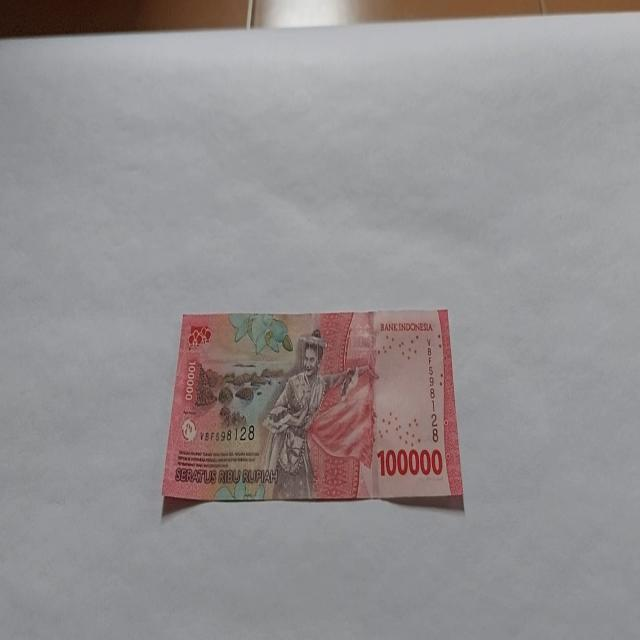seratus ribu rupiah: (161, 308, 464, 510), (257, 327, 359, 501)
